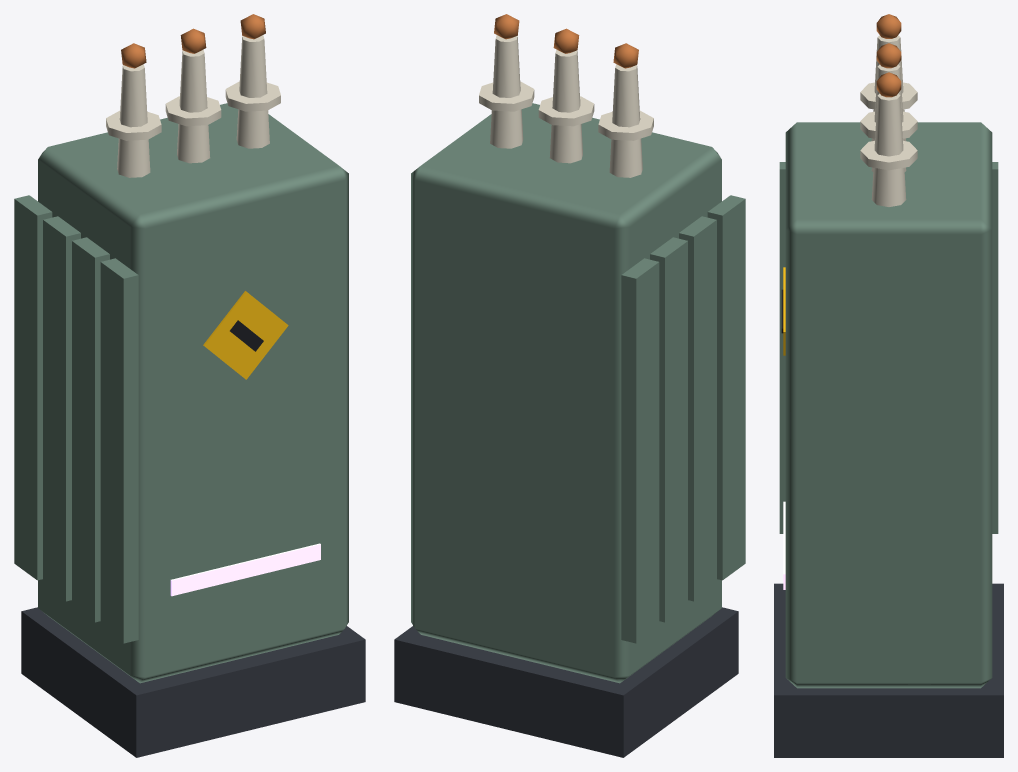
Rendered from station_intake_ausstattung_1_3.glb.
3 renders of one model, left to right at view 1: azimuth 30°, elevation 25°; view 2: azimuth 150°, elevation 25°; view 3: azimuth 270°, elevation 25°, orthographic.
Visible parts, largest first — view 1: station_intake_ausstattung_1_3; view 2: station_intake_ausstattung_1_3; view 3: station_intake_ausstattung_1_3.
Part boxes in pixels (x1=…): station_intake_ausstattung_1_3: x1=14, y1=14, x2=365, y2=757; station_intake_ausstattung_1_3: x1=394, y1=14, x2=745, y2=757; station_intake_ausstattung_1_3: x1=774, y1=14, x2=1003, y2=757.
Bounding box in the file's own units: 0.48 × 1.26 × 0.4.
